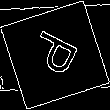P_SE: (24, 27, 86, 83)
